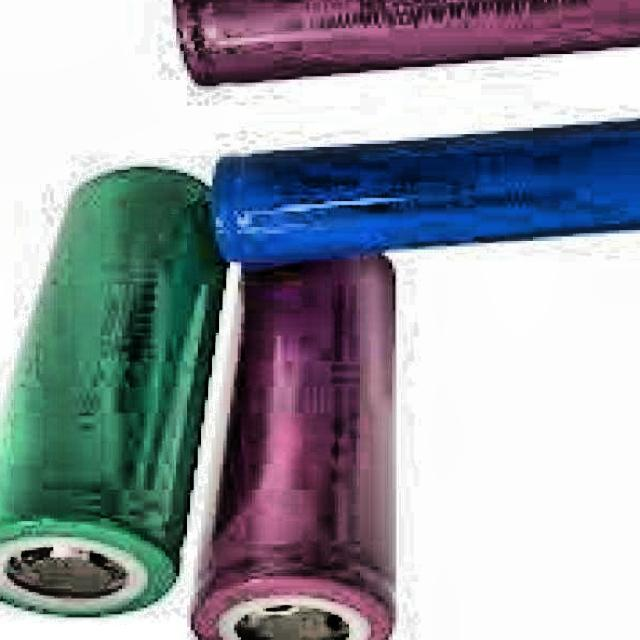battery: (0, 169, 223, 618), (194, 259, 389, 640), (212, 121, 640, 262), (174, 0, 640, 86)
